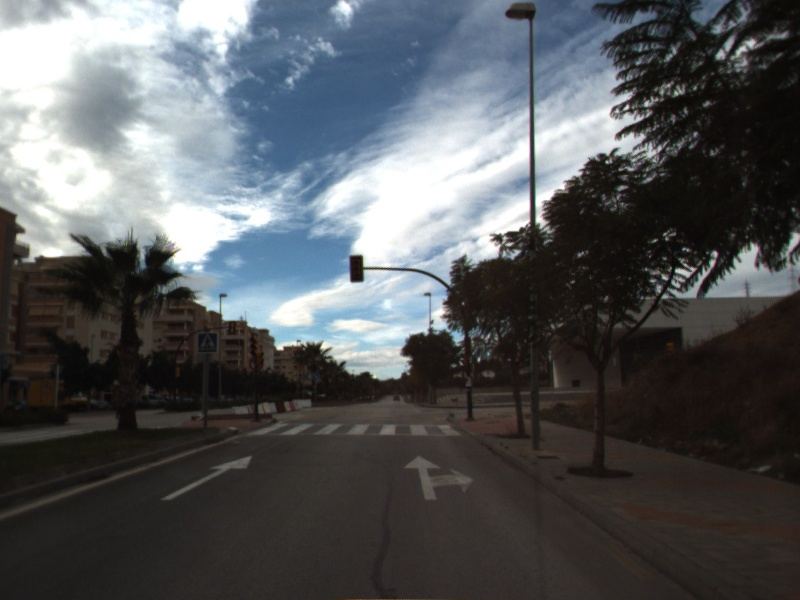STRAIGHT: (159, 454, 254, 502)
STRAIGHT_RIGHT: (402, 453, 476, 502)
